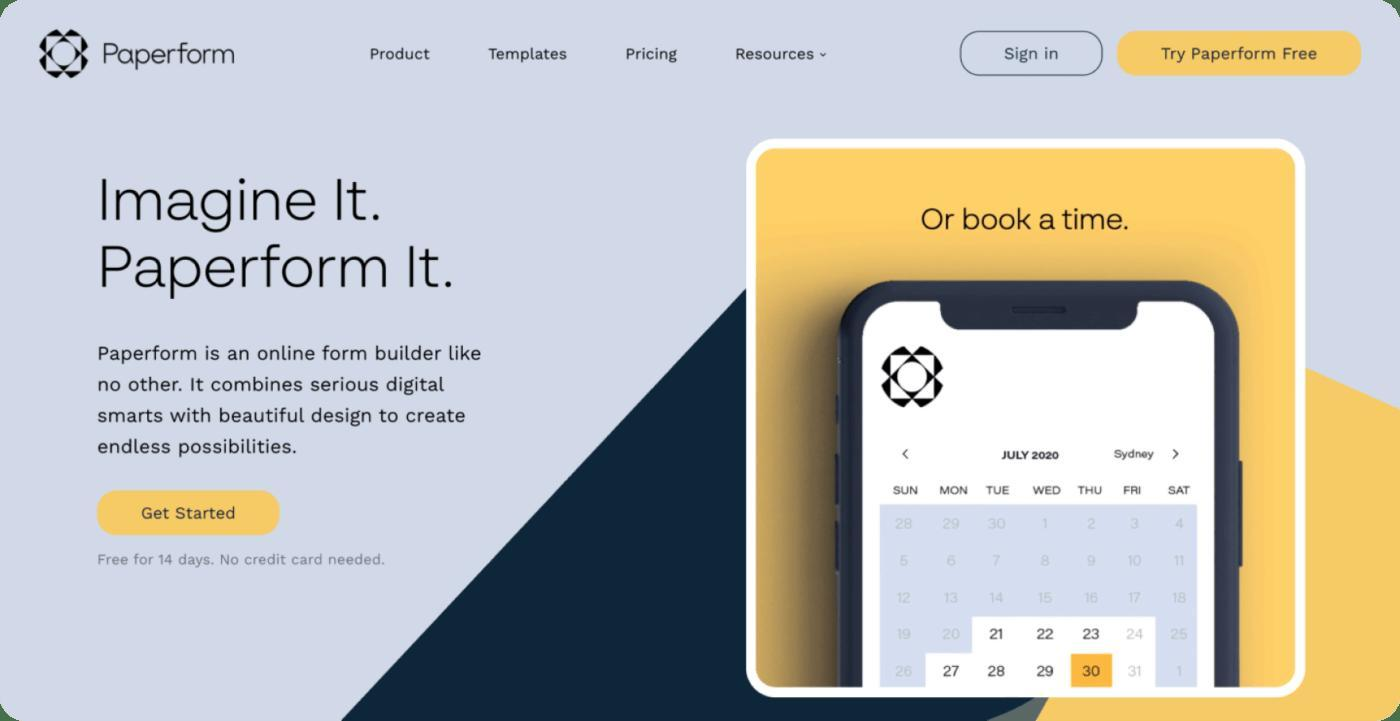button: (1117, 32, 1364, 79), (99, 492, 282, 537), (959, 31, 1107, 78)
dropdown: (734, 45, 833, 66)
label: (489, 47, 572, 65), (622, 46, 685, 67), (367, 47, 439, 64)
